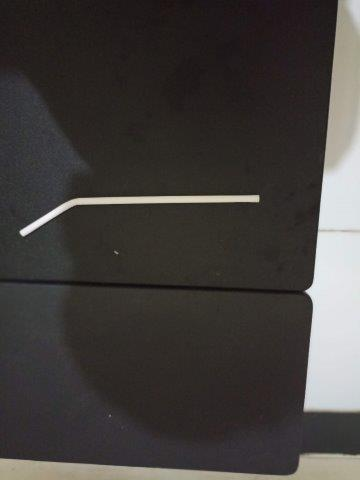sedotan: (20, 195, 259, 236)
